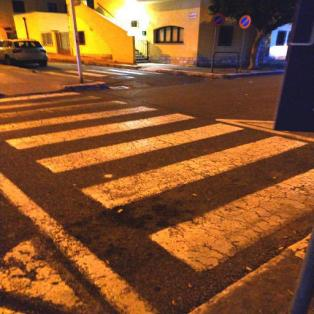Paso de Cebra: (1, 108, 248, 178)
